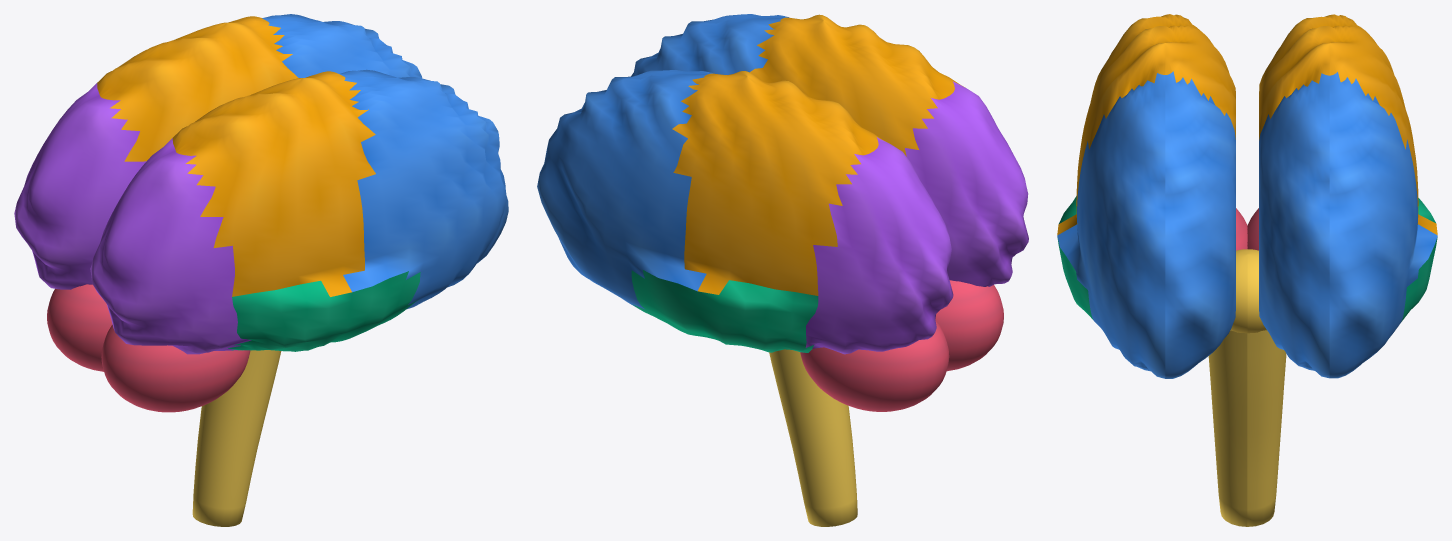
The model's file is 09_human_brain_lobes.glb.
The picture shows the model from 3 angles, left to right: view 1: azimuth 30°, elevation 25°; view 2: azimuth 150°, elevation 25°; view 3: azimuth 270°, elevation 25°; orthographic projection. The views are drawn at different scales.
Parts seen in each view (by area): view 1: Parietal Lobe (Somatosensory Cortex), Occipital Lobe (Primary Visual Cortex), Frontal Lobe (Prefrontal & Motor Cortex), Cerebellum (Arbor Vitae & Coordination), Temporal Lobe (Auditory & Memory), Brainstem, Pons & Medulla Oblongata; view 2: Parietal Lobe (Somatosensory Cortex), Occipital Lobe (Primary Visual Cortex), Frontal Lobe (Prefrontal & Motor Cortex), Cerebellum (Arbor Vitae & Coordination), Temporal Lobe (Auditory & Memory), Brainstem, Pons & Medulla Oblongata; view 3: Frontal Lobe (Prefrontal & Motor Cortex), Parietal Lobe (Somatosensory Cortex), Brainstem, Pons & Medulla Oblongata, Temporal Lobe (Auditory & Memory), Cerebellum (Arbor Vitae & Coordination).
Boxes of the visible parts, box(x1,y1,x2,y2) form: Parietal Lobe (Somatosensory Cortex): box(97, 16, 375, 296); Occipital Lobe (Primary Visual Cortex): box(14, 83, 251, 354); Frontal Lobe (Prefrontal & Motor Cortex): box(262, 14, 508, 308); Cerebellum (Arbor Vitae & Coordination): box(47, 284, 250, 412); Temporal Lobe (Auditory & Memory): box(228, 271, 420, 351); Brainstem, Pons & Medulla Oblongata: box(192, 350, 281, 526); Parietal Lobe (Somatosensory Cortex): box(672, 14, 965, 295); Occipital Lobe (Primary Visual Cortex): box(805, 81, 1028, 354); Frontal Lobe (Prefrontal & Motor Cortex): box(537, 14, 788, 309); Cerebellum (Arbor Vitae & Coordination): box(800, 280, 1003, 411); Temporal Lobe (Auditory & Memory): box(631, 270, 818, 352); Brainstem, Pons & Medulla Oblongata: box(769, 349, 857, 526); Frontal Lobe (Prefrontal & Motor Cortex): box(1057, 71, 1437, 378); Parietal Lobe (Somatosensory Cortex): box(1057, 14, 1437, 235); Brainstem, Pons & Medulla Oblongata: box(1208, 249, 1286, 526); Temporal Lobe (Auditory & Memory): box(1057, 196, 1437, 321); Cerebellum (Arbor Vitae & Coordination): box(1236, 208, 1258, 250).
Size of the model in its own units: 156 by 169 by 116.
